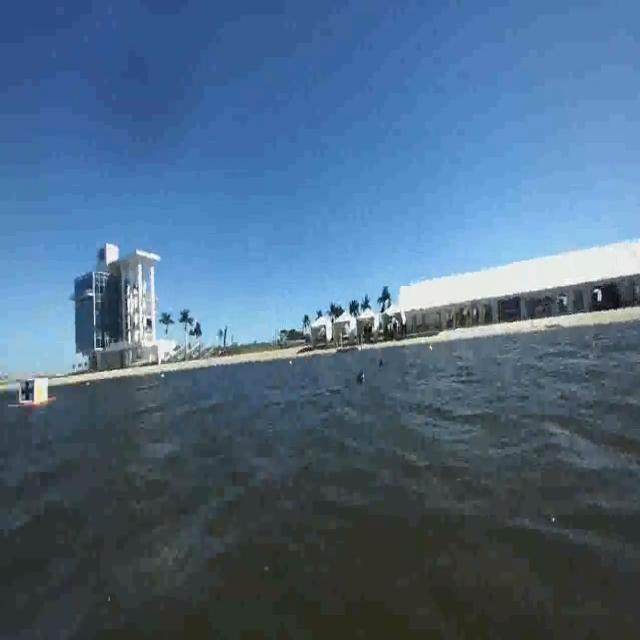black-buoy: (357, 368, 368, 386)
